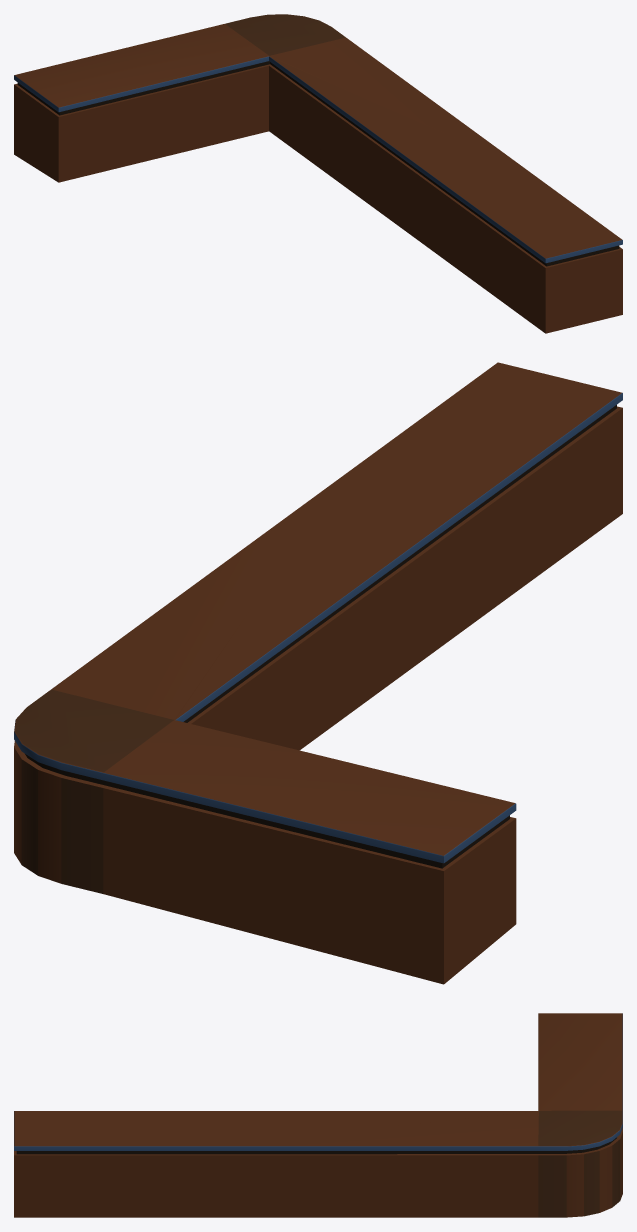
File: BarraIzq.fbx
3 views of the same model, one above another, from view 1: azimuth 30°, elevation 25°; view 2: azimuth 150°, elevation 25°; view 3: azimuth 270°, elevation 25° (orthographic). The views are drawn at different scales.
Parts seen in each view (by area): view 1: BarraIzq; view 2: BarraIzq; view 3: BarraIzq.
Boxes of the visible parts, x1,y1,x2,y2 form: BarraIzq: (14,14,622,333); BarraIzq: (14,362,622,984); BarraIzq: (14,1013,622,1217).
Bounding box in the file's own units: 744 × 197 × 1438.
